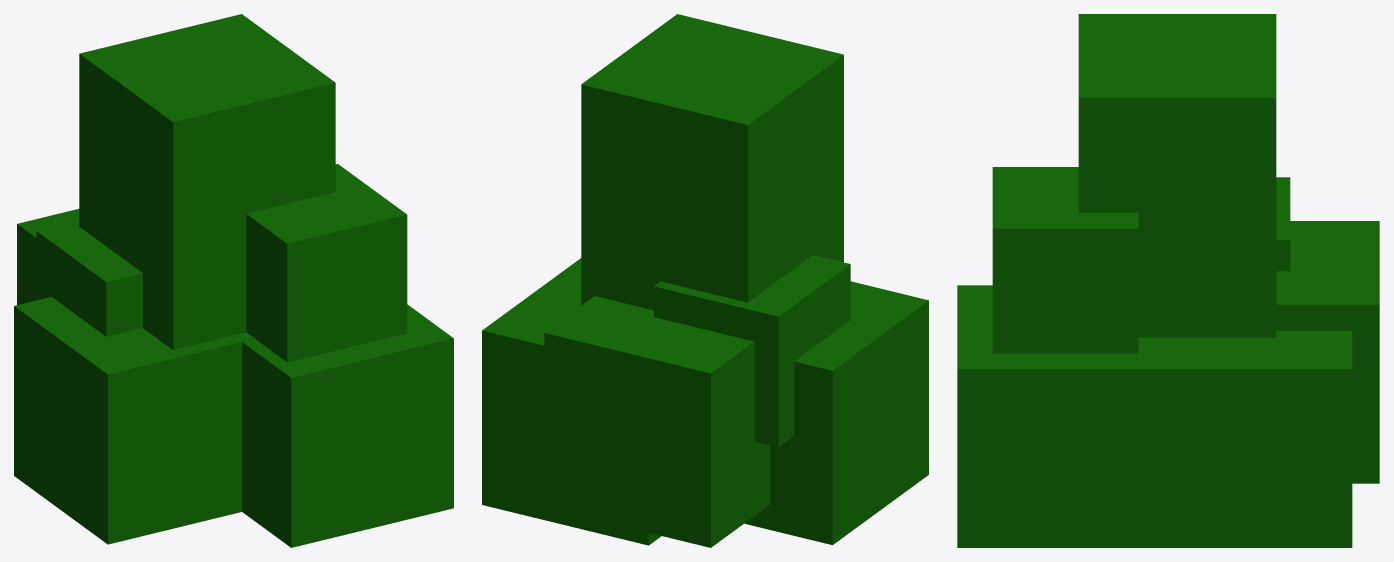
File: bush.fbx
3 renders of one model, left to right at view 1: azimuth 30°, elevation 25°; view 2: azimuth 150°, elevation 25°; view 3: azimuth 270°, elevation 25°, orthographic. The views are drawn at different scales.
Visible parts, largest first — view 1: Cube.001; view 2: Cube.001; view 3: Cube.001.
Part boxes in pixels (bbox=[...]): Cube.001: bbox=[14, 14, 453, 547]; Cube.001: bbox=[482, 14, 928, 547]; Cube.001: bbox=[957, 14, 1379, 547].
Bounding box in the file's own units: 1.46 × 1.87 × 1.71.
